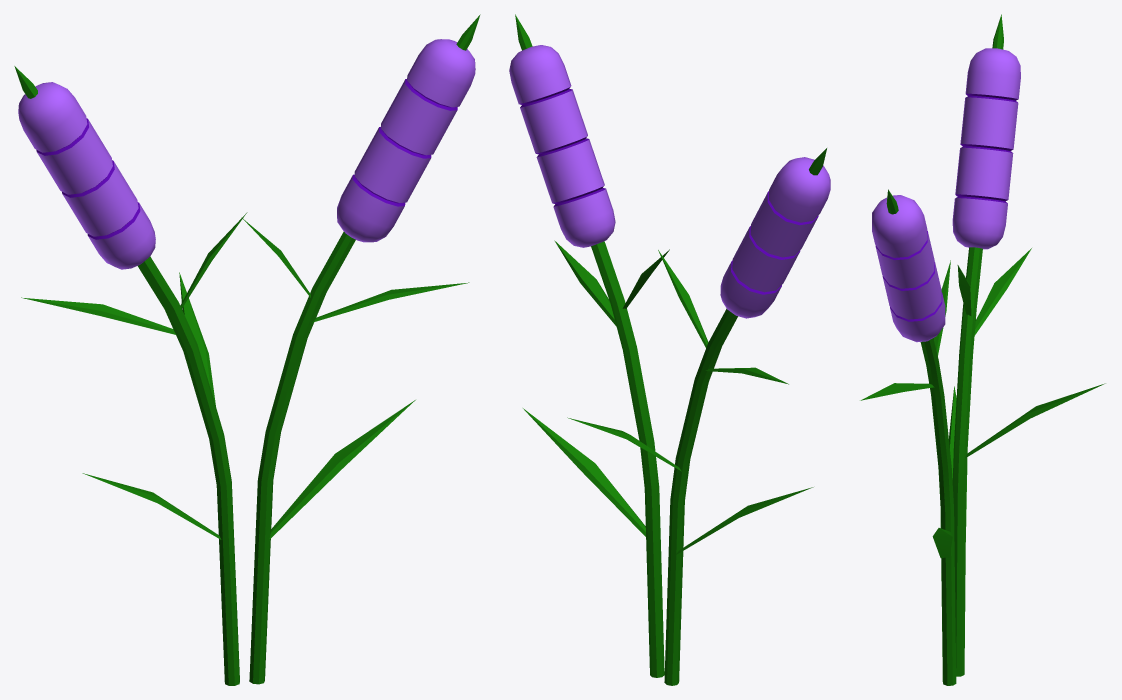
The model's file is ReedsDouble2.fbx.
3 renders of one model, left to right at view 1: azimuth 30°, elevation 25°; view 2: azimuth 150°, elevation 25°; view 3: azimuth 270°, elevation 25°, orthographic. The views are drawn at different scales.
Parts seen in each view (by area): view 1: ReedsDouble2_LOD0; view 2: ReedsDouble2_LOD0; view 3: ReedsDouble2_LOD0.
Part boxes in pixels (x1,y1,x2,y2): ReedsDouble2_LOD0: (14,14,480,685); ReedsDouble2_LOD0: (509,14,830,685); ReedsDouble2_LOD0: (860,14,1105,685).
Size of what is drawn, in the model's own units: 99.48 by 153 by 59.55.
